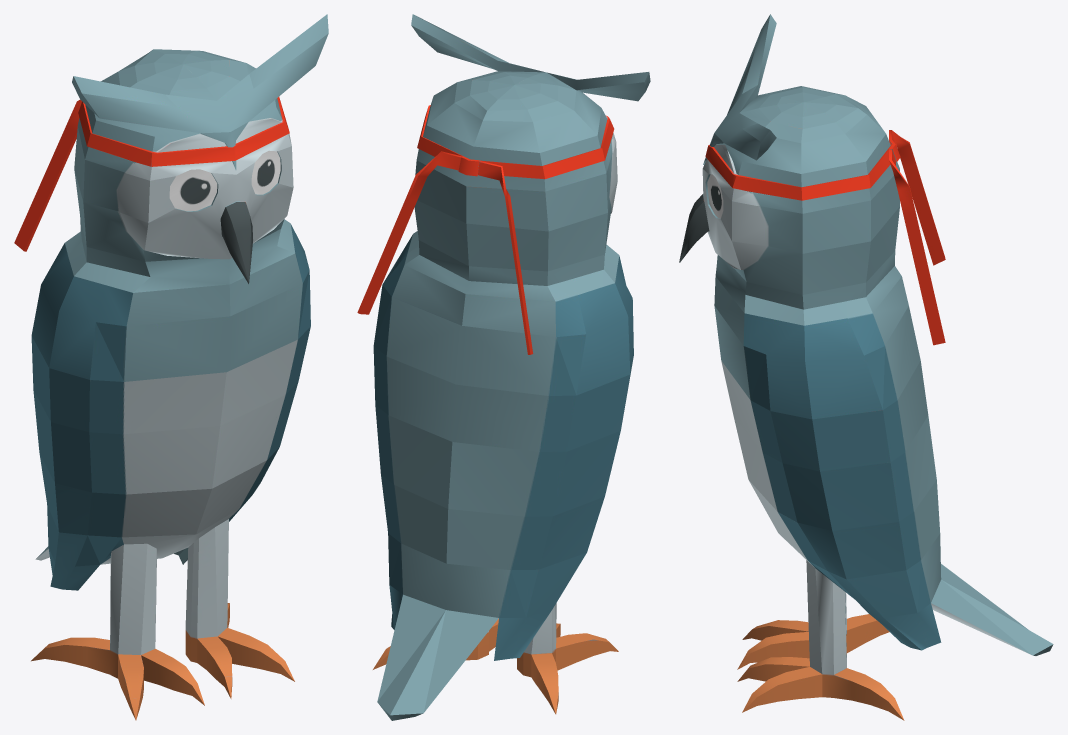
The model's file is Owl_Scouts.fbx.
The picture shows the model from 3 angles, left to right: view 1: azimuth 30°, elevation 25°; view 2: azimuth 150°, elevation 25°; view 3: azimuth 270°, elevation 25°; orthographic projection. The views are drawn at different scales.
Visible parts, largest first — view 1: Owl_Scouts; view 2: Owl_Scouts; view 3: Owl_Scouts.
Boxes of the visible parts, box(x1,y1,x2,y2) form: Owl_Scouts: box(14, 14, 328, 720); Owl_Scouts: box(357, 14, 650, 720); Owl_Scouts: box(679, 14, 1053, 720).
Bounding box in the file's own units: 53.54 × 128 × 71.85.
1 material, 1 textured.
